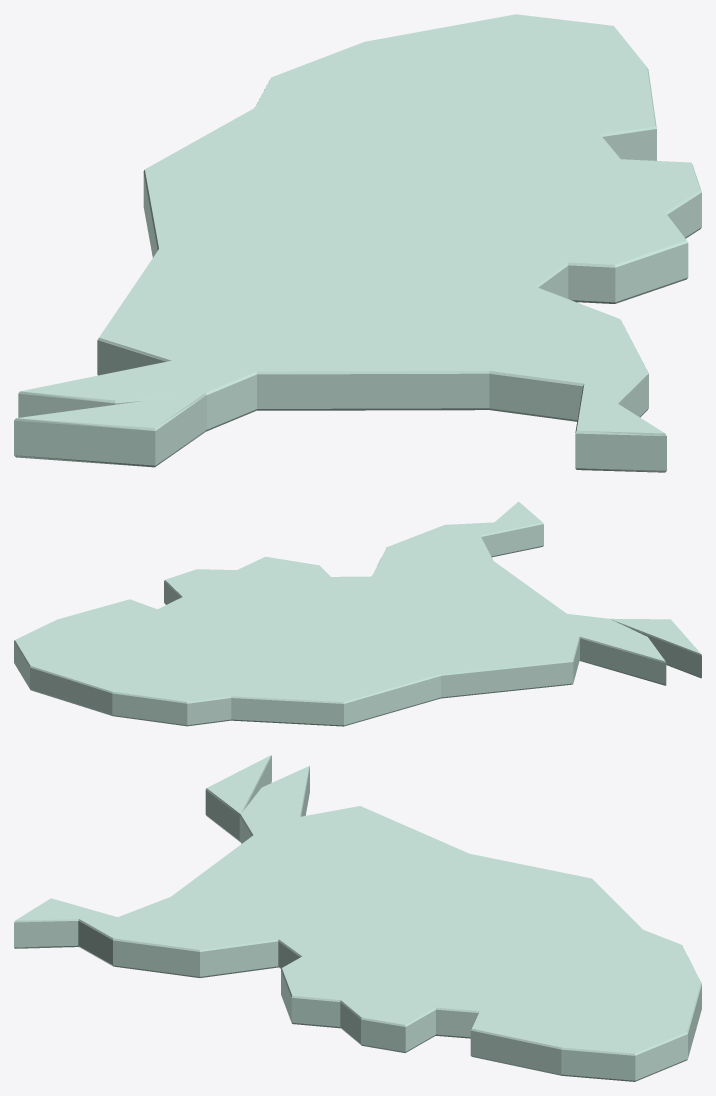
File: NLD.glb
The picture shows the model from 3 angles, top to bottom: view 1: azimuth 30°, elevation 25°; view 2: azimuth 150°, elevation 25°; view 3: azimuth 270°, elevation 25°; orthographic projection. The views are drawn at different scales.
Size of the model in its own units: 1.55 by 0.068 by 1.5.
